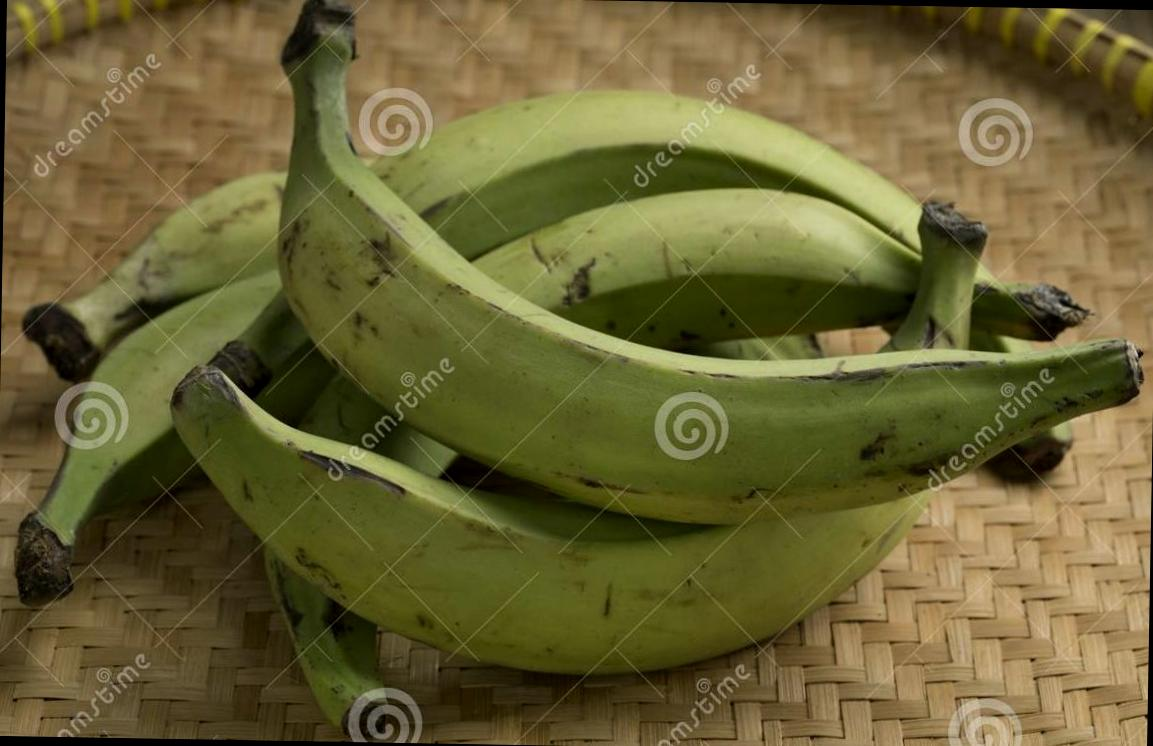Banana Unripe: (42, 0, 1140, 734)
